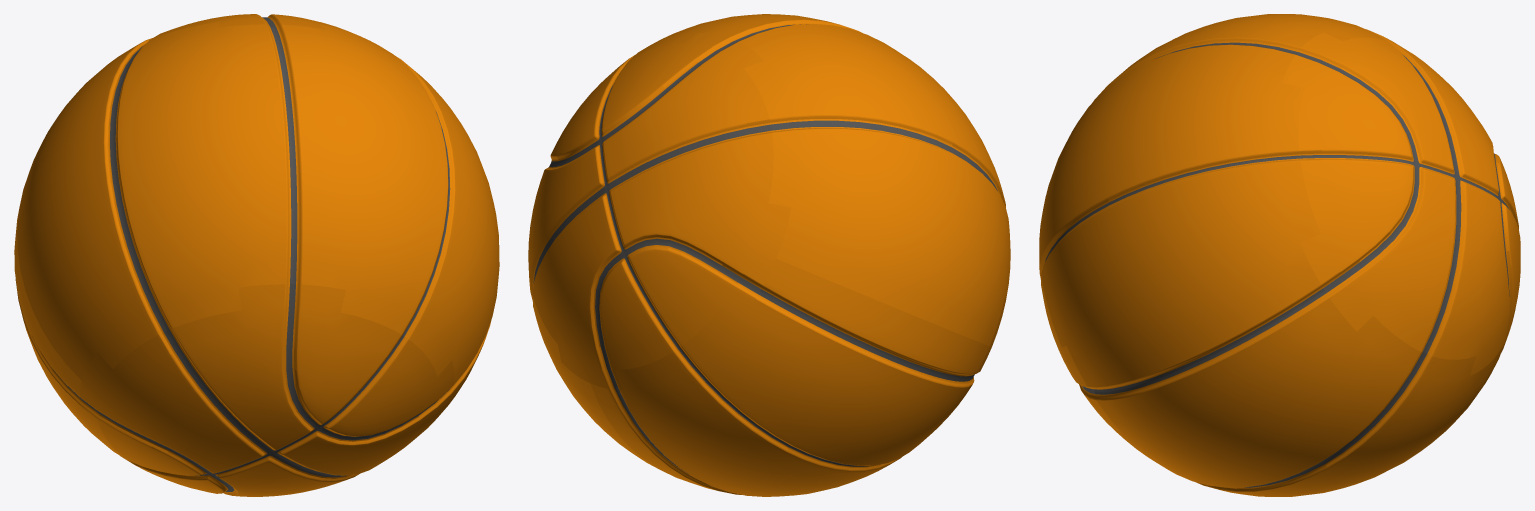
File: Basket2.fbx
The picture shows the model from 3 angles, left to right: view 1: azimuth 30°, elevation 25°; view 2: azimuth 150°, elevation 25°; view 3: azimuth 270°, elevation 25°; orthographic projection.
Visible parts, largest first — view 1: Sphere01; view 2: Sphere01; view 3: Sphere01.
Boxes of the visible parts, <box> form: Sphere01: <box>14,14,499,496</box>; Sphere01: <box>528,14,1010,496</box>; Sphere01: <box>1039,14,1520,496</box>.
Bounding box in the file's own units: 3.16 × 3.16 × 3.15.
